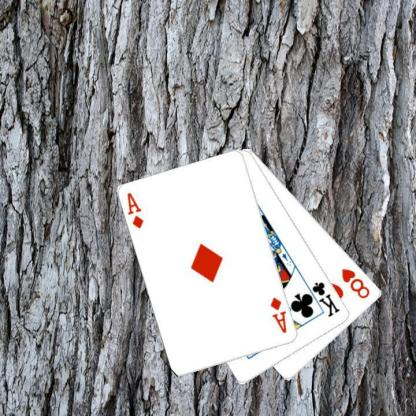8H: (339, 266, 372, 300)
AD: (268, 294, 288, 335), (125, 190, 145, 230)
KC: (303, 280, 341, 318)
